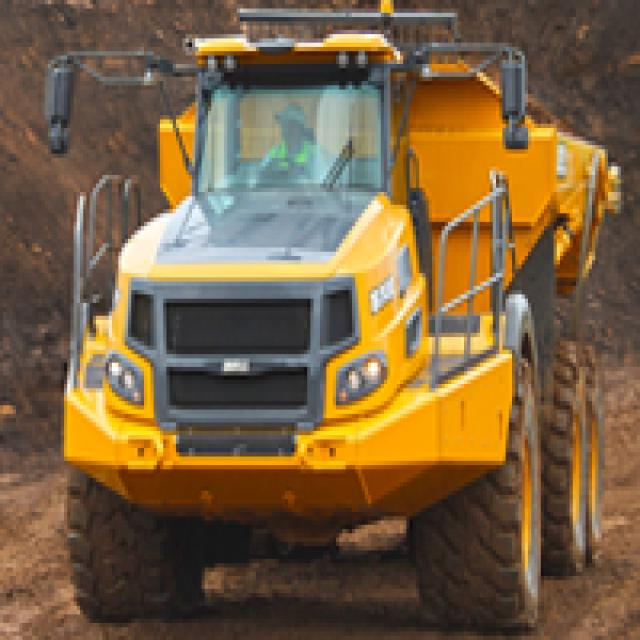dump_truck: (32, 13, 624, 610)
